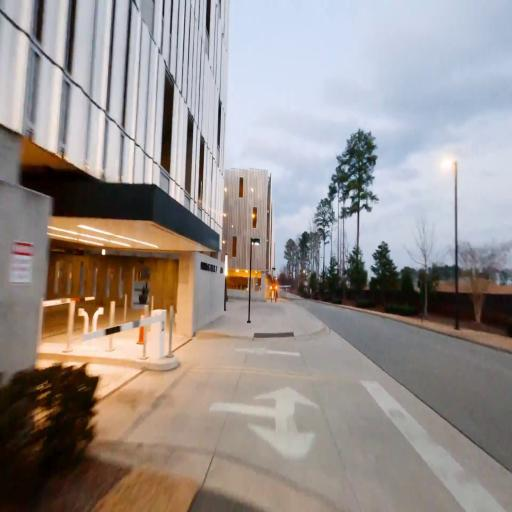uav: (252, 277, 295, 296)
